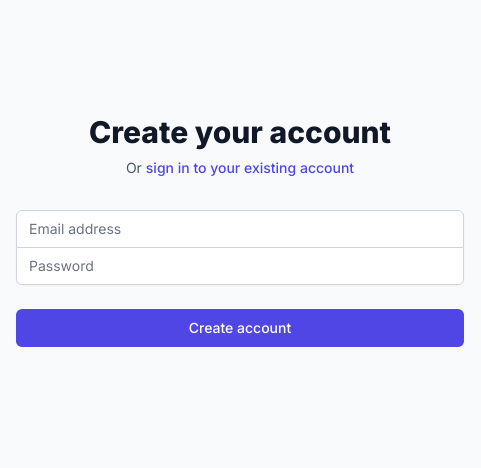
Test: Complete Auth Flow Integration Tests › Sign Up Flow › handles signup with existing email
Type "existing@example.com" into the field labelled "Email address" at (240, 228), box top-left (16, 210), bottom-right (464, 248)
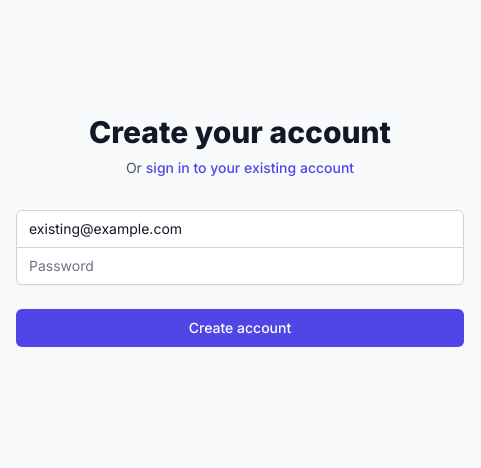
Type "password123" into the password field labelled "Password" at (240, 266), box top-left (16, 246), bottom-right (464, 284)
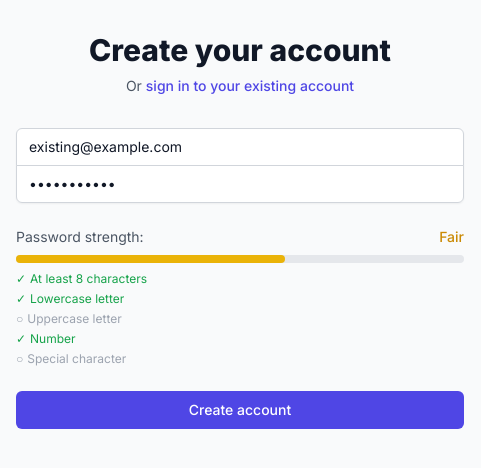
Click the button "Create account" at (240, 410), box top-left (16, 390), bottom-right (464, 428)
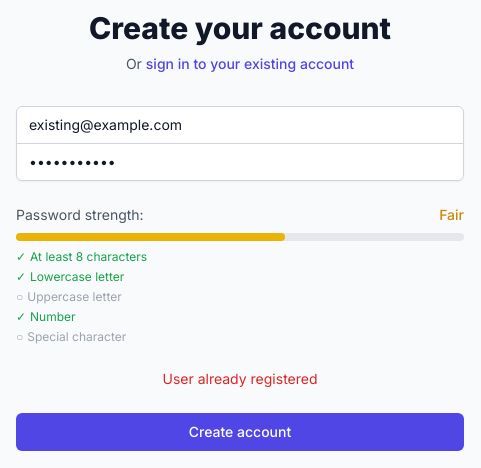
Expected: the text "User already registered" is shown, top-left (162, 370), bottom-right (318, 386)
